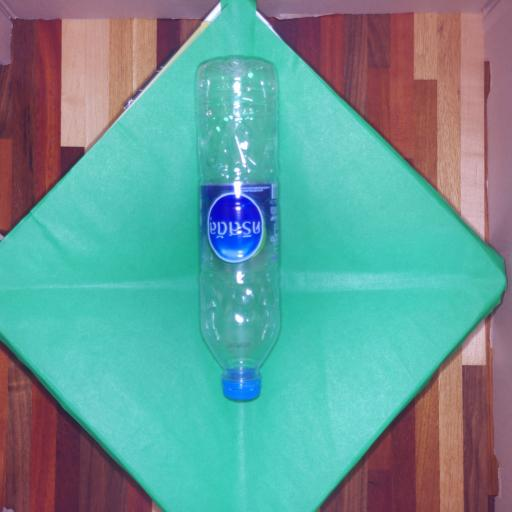bottle: (197, 60, 279, 399)
